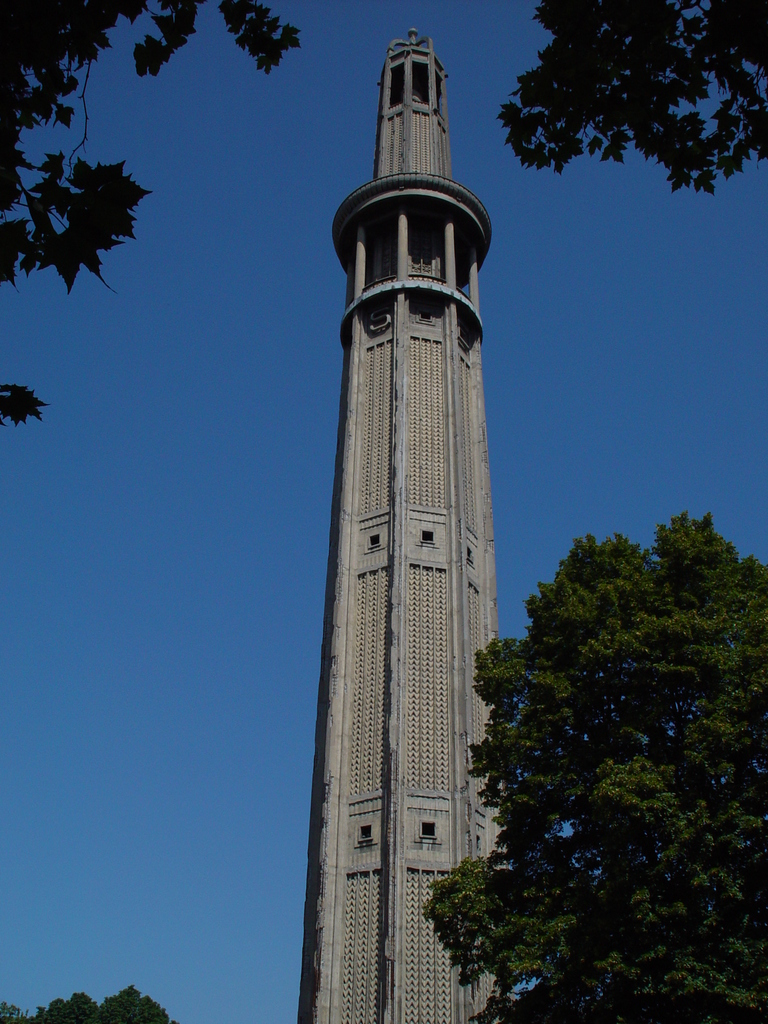Tree: (0, 0, 767, 428), (443, 471, 744, 981), (0, 986, 176, 1023)
